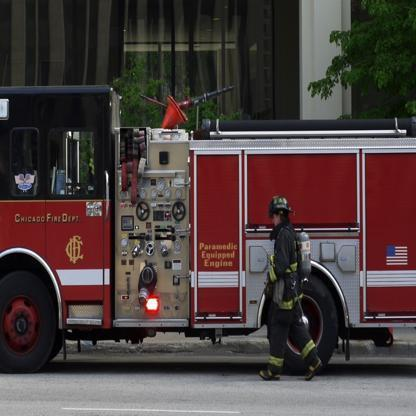fire-truck: (0, 62, 397, 396)
